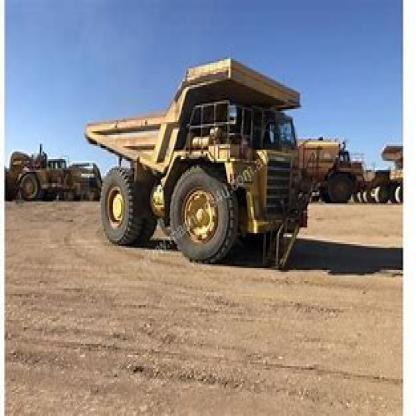dump_truck: (86, 53, 318, 260)
